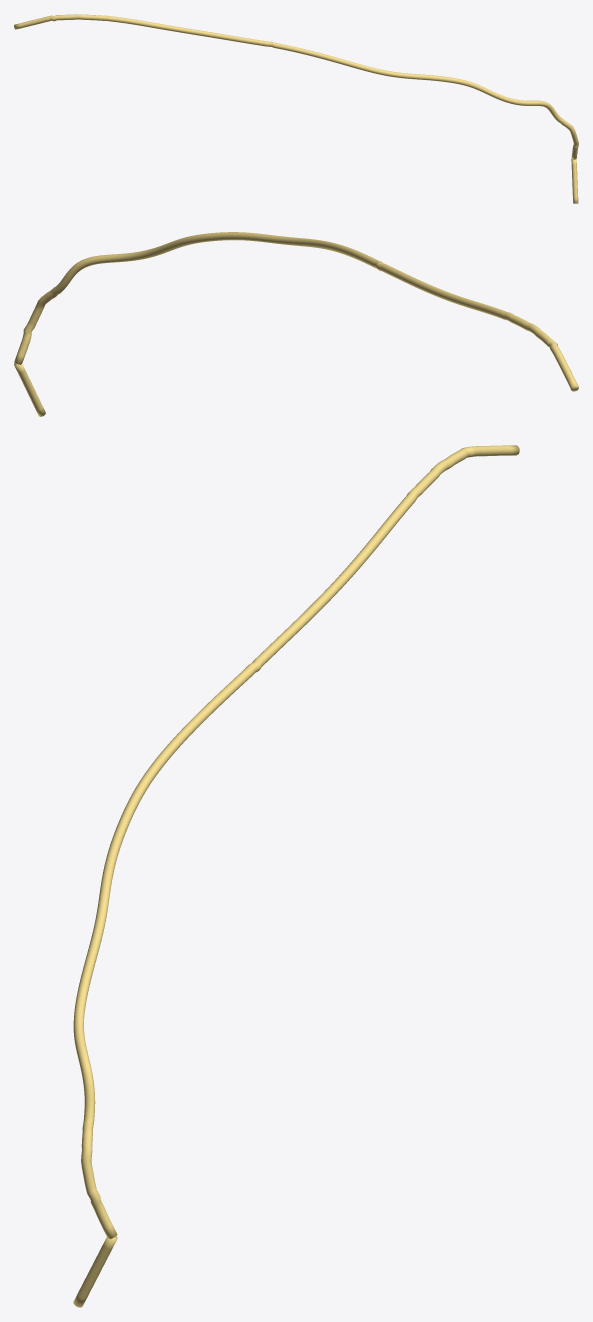
Rendered from colonic-continuation.glb.
The picture shows the model from 3 angles, top to bottom: view 1: azimuth 30°, elevation 25°; view 2: azimuth 150°, elevation 25°; view 3: azimuth 270°, elevation 25°; orthographic projection. The views are drawn at different scales.
Visible parts, largest first — view 1: VMRA_TRANSVERSE_AUTONOMIC_PATH_01; view 2: VMRA_TRANSVERSE_AUTONOMIC_PATH_01; view 3: VMRA_TRANSVERSE_AUTONOMIC_PATH_01.
Part boxes in pixels (left/top/right/bottom): VMRA_TRANSVERSE_AUTONOMIC_PATH_01: left=14, top=14, right=578, bottom=203; VMRA_TRANSVERSE_AUTONOMIC_PATH_01: left=14, top=232, right=578, bottom=416; VMRA_TRANSVERSE_AUTONOMIC_PATH_01: left=73, top=445, right=519, bottom=1307.
Size of the model in its own units: 0.0606 by 0.028 by 0.0254.
